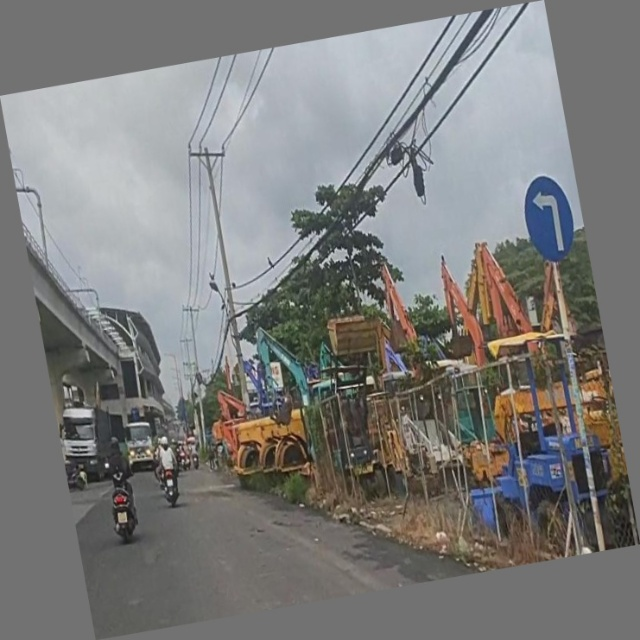R.301e: (519, 175, 581, 267)
